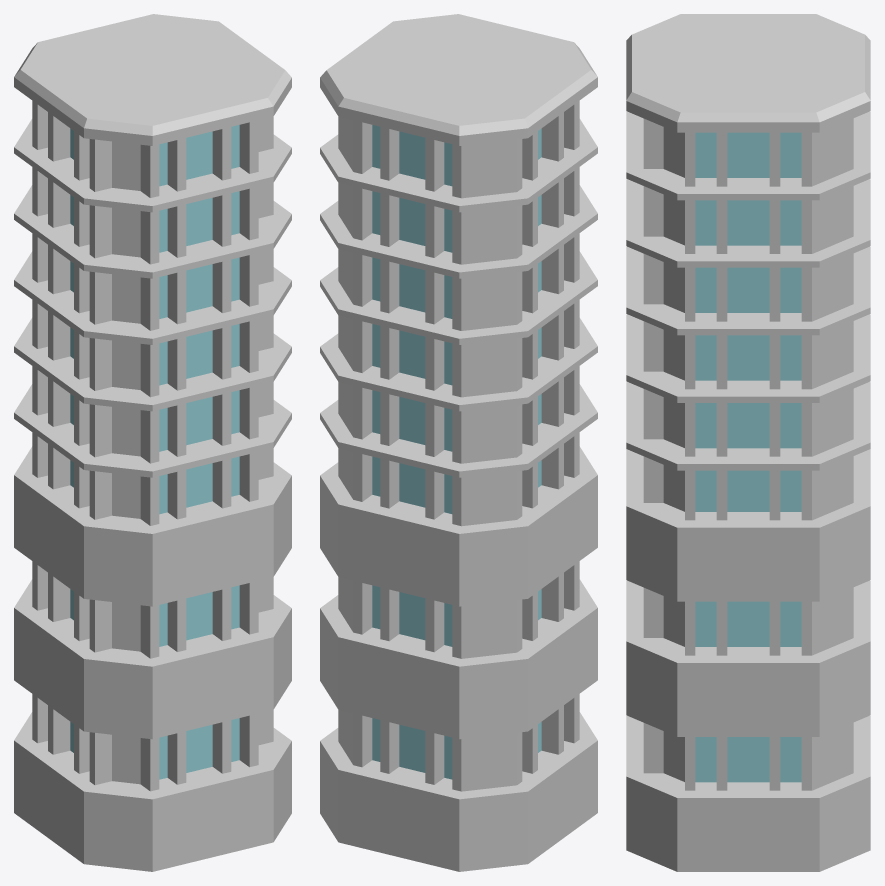
The model's file is Buillding1.fbx.
The picture shows the model from 3 angles, left to right: view 1: azimuth 30°, elevation 25°; view 2: azimuth 150°, elevation 25°; view 3: azimuth 270°, elevation 25°; orthographic projection.
Visible parts, largest first — view 1: Buillding1; view 2: Buillding1; view 3: Buillding1.
Part boxes in pixels (x1,y1,x2,y2): Buillding1: (14,14,291,871); Buillding1: (320,14,597,871); Buillding1: (626,14,870,871).
Bounding box in the file's own units: 2320 × 7928 × 2320.
